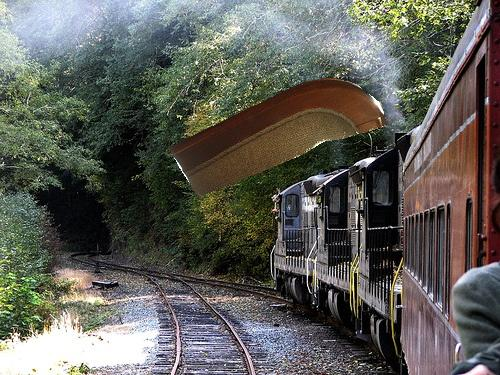tampered: (170, 78, 386, 196)
